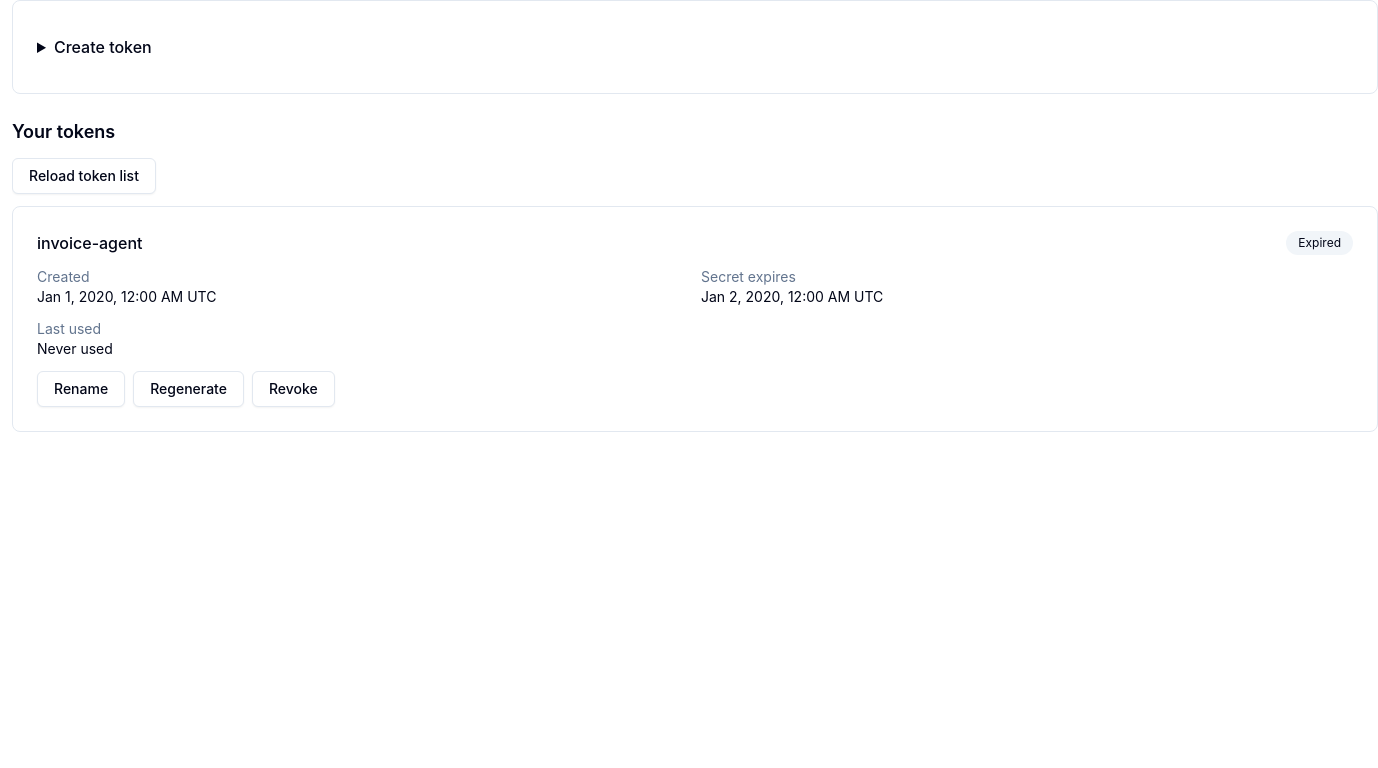
delegation management interaction › Rename handles offline immediately without polling
Click the button "Rename": (81,389) [37,371,125,407]
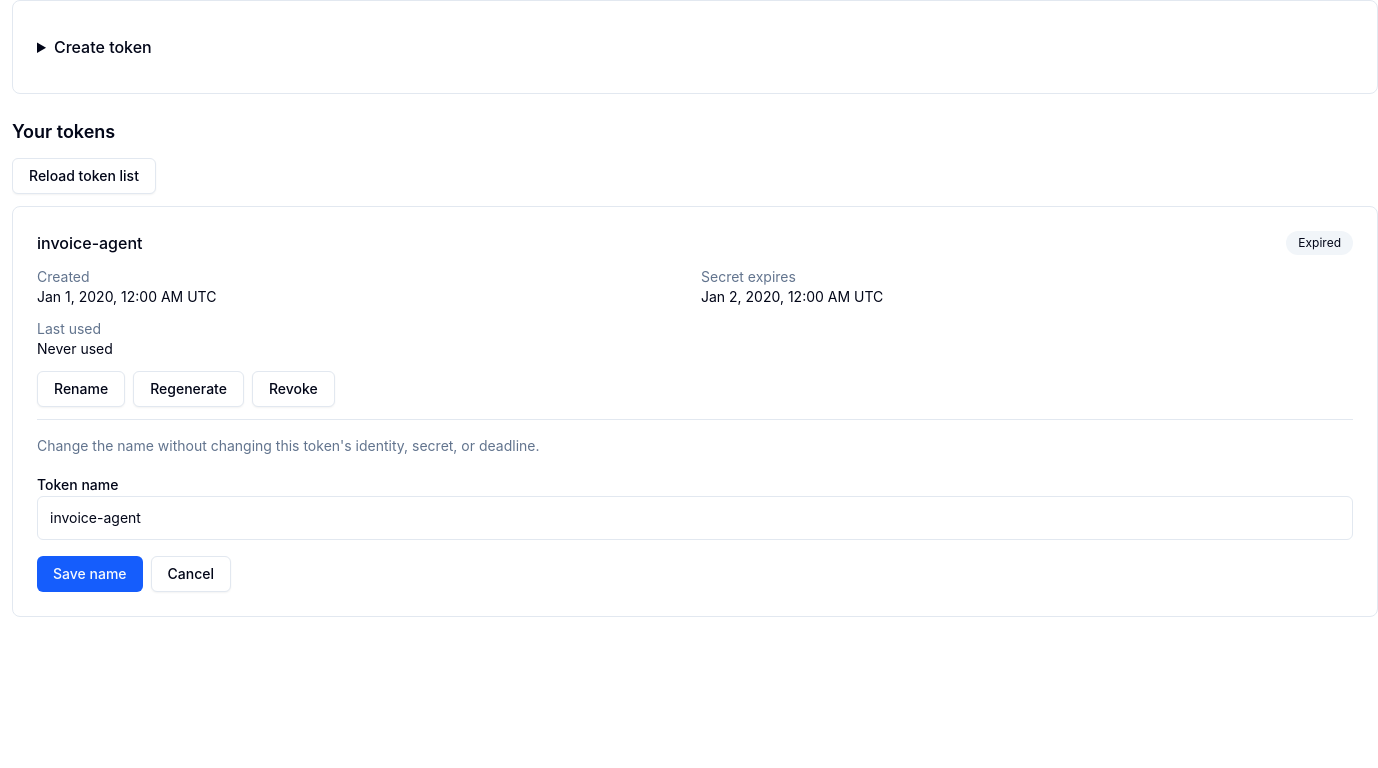
Submit the form, box [37,419,1353,592]
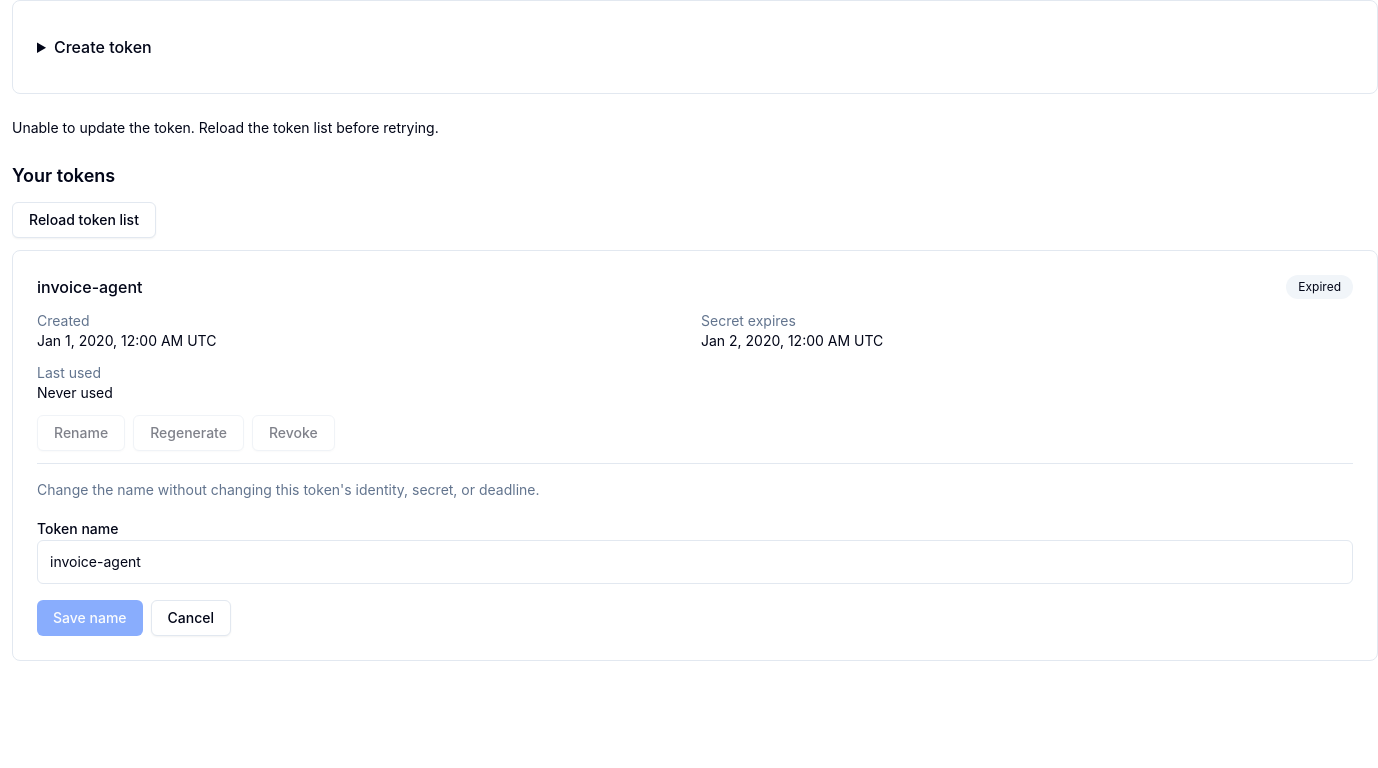
Now the form is shown, box [37,463,1353,636]
Now the button "Save name" is disabled, box [37,600,142,636]
